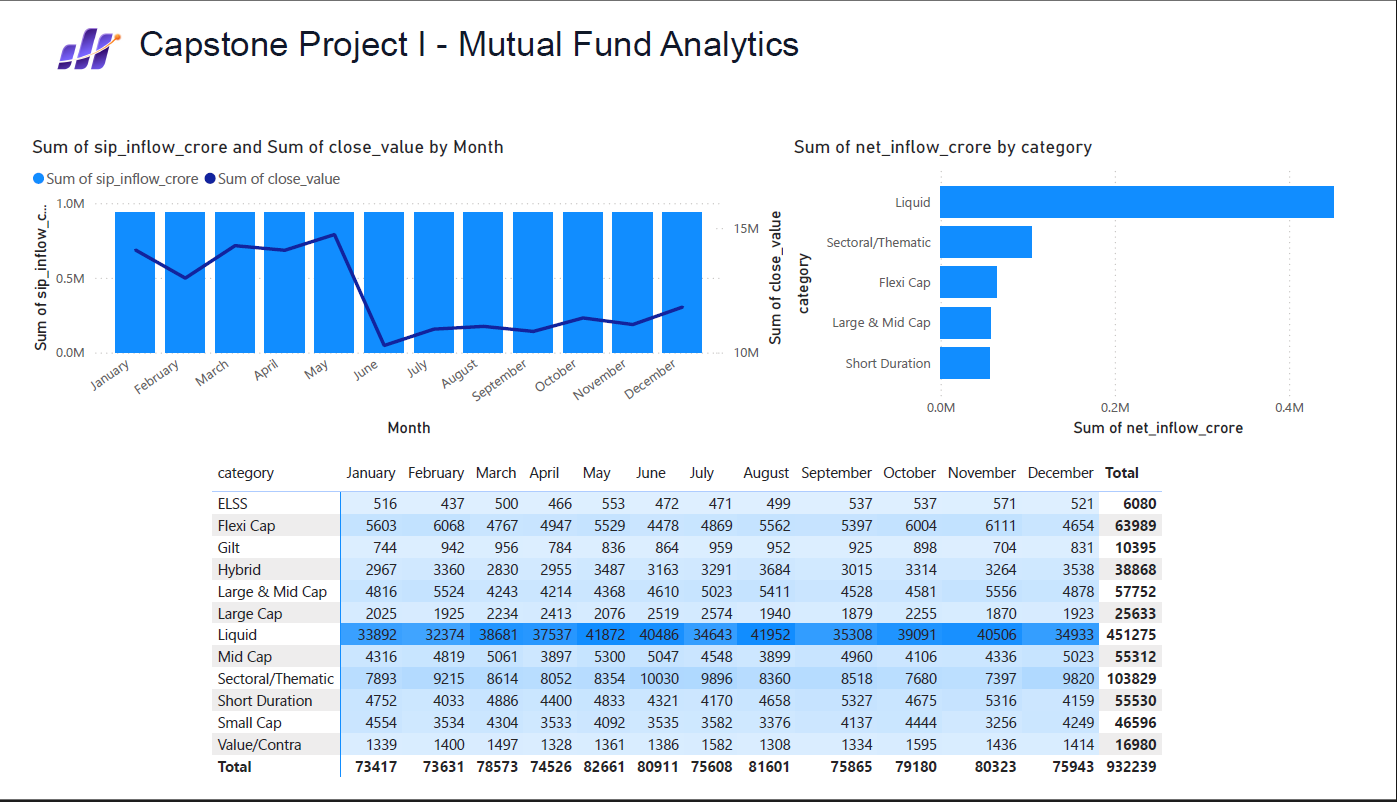

The page's visual inventory and layout, read from the dashboard file:
{"tool":"powerbi","page":{"name":"SIP & Market Trends","canvas":[1280,720],"ordinal":3},"visuals":[{"type":"lineClusteredColumnComboChart","fields":{"Y":["Sum(clean_monthly_sip_inflows.sip_inflow_crore)"],"Category":["clean_benchmark_indices.date.Variation.Date Hierarchy.Month"],"Y2":["Sum(clean_benchmark_indices.close_value)"]},"box":[26.1,118.3,697.2,280.5],"z":0},{"type":"pivotTable","fields":{"Rows":["clean_category_inflows.category"],"Values":["Sum(clean_category_inflows.net_inflow_crore)"],"Columns":["clean_category_inflows.month.Variation.Date Hierarchy.Month"]},"box":[191.1,411.2,895.2,309.4],"z":1},{"type":"clusteredBarChart","fields":{"Category":["clean_category_inflows.category"],"Y":["Sum(clean_category_inflows.net_inflow_crore)"]},"box":[723.3,118.3,556.9,280.5],"z":2},{"type":"textbox","box":[123.8,11,668.3,56.4],"z":3},{"type":"image","box":[0,0,166.4,77],"z":4}]}

Visuals, with their boxes in screenshot pixels (x1, y1, x2, y2), scaled from the page's 1280x720 canvas onto the 1397x802 screenshot:
lineClusteredColumnComboChart - Sum(clean_monthly_sip_inflows.sip_inflow_crore) x clean_benchmark_indices.date.Variation.Date Hierarchy.Month: 28/132/789/444
pivotTable - clean_category_inflows.category x Sum(clean_category_inflows.net_inflow_crore): 209/458/1186/801
clusteredBarChart - clean_category_inflows.category x Sum(clean_category_inflows.net_inflow_crore): 789/132/1396/444
textbox: 135/12/865/75
image: 0/0/182/86
